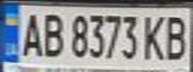3: (87, 11, 109, 60), (121, 11, 142, 61)
7: (103, 11, 124, 60)
8: (66, 11, 90, 58)
A: (15, 9, 45, 57)
B: (160, 11, 193, 62), (36, 9, 66, 58)
K: (139, 11, 169, 61)
